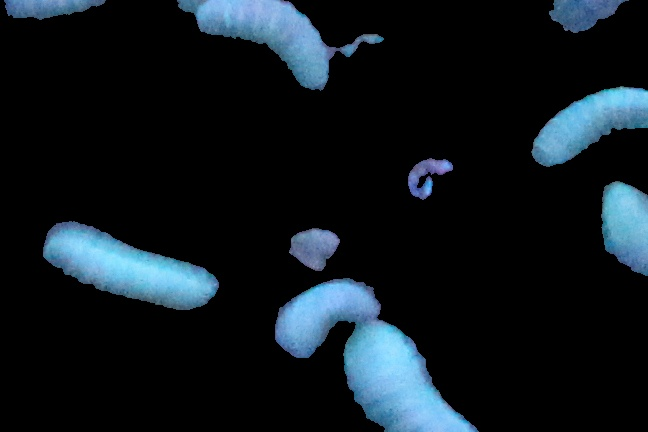larvae: (41, 225, 217, 310), (343, 319, 477, 427), (193, 1, 330, 97), (530, 82, 648, 165), (277, 277, 384, 362), (2, 1, 129, 17)
